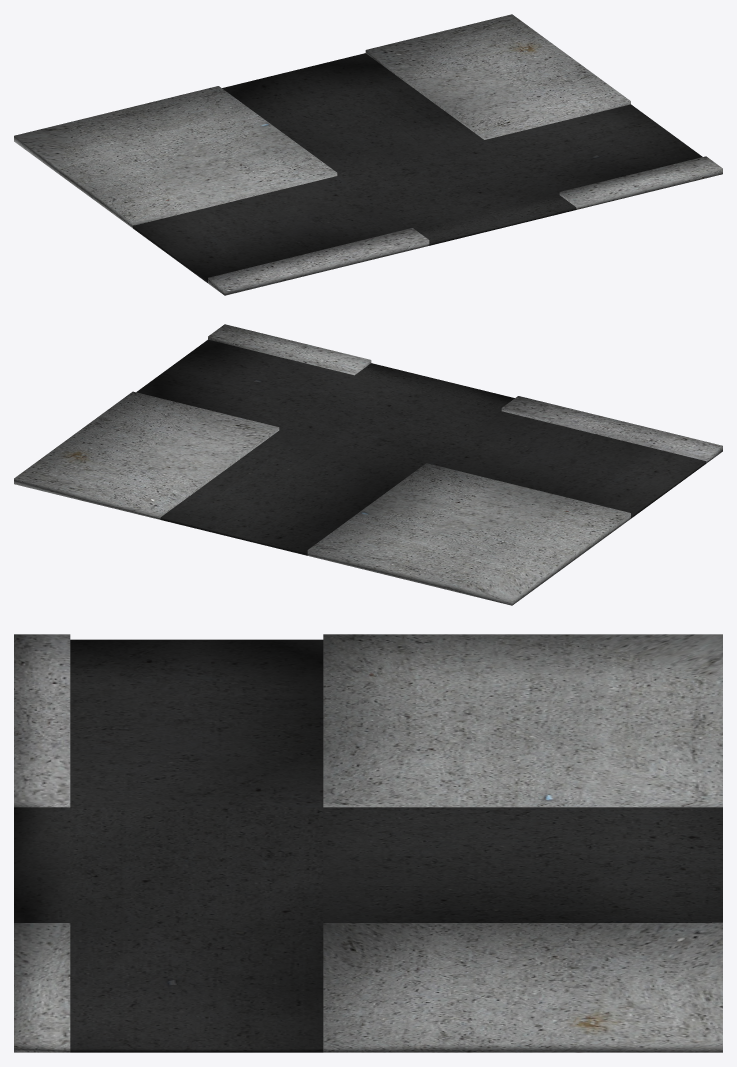
The model's file is testLvl.fbx.
3 renders of one model, top to bottom at view 1: azimuth 30°, elevation 25°; view 2: azimuth 150°, elevation 25°; view 3: azimuth 270°, elevation 25°, orthographic. The views are drawn at different scales.
Parts seen in each view (by area): view 1: Cube; view 2: Cube; view 3: Cube.
Boxes of the visible parts, x1,y1,x2,y2 form: Cube: [14, 14, 722, 295]; Cube: [14, 324, 722, 605]; Cube: [14, 634, 722, 1052].
Size of the model in its own units: 34.02 by 0.3726 by 24.93.
Materials: 1 (1 with a texture image).
